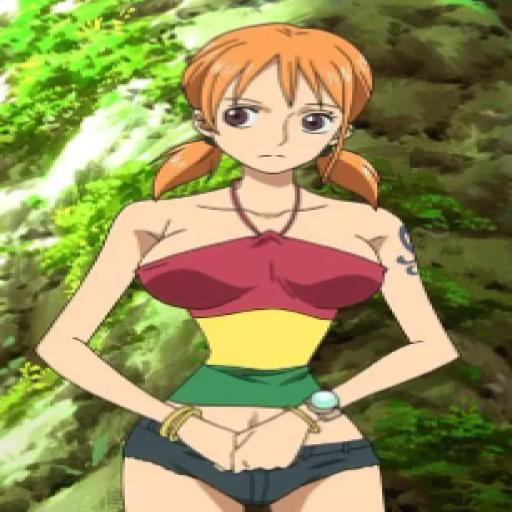Nami: (38, 20, 474, 512)
